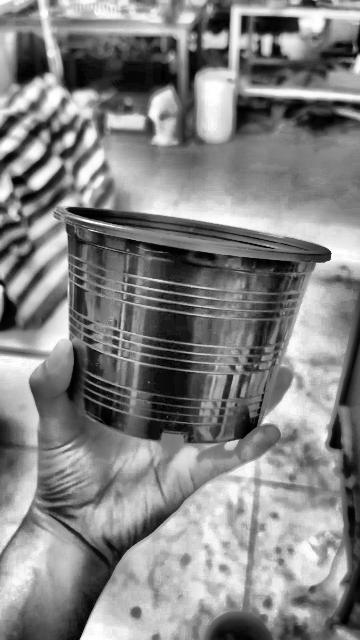pot: (54, 207, 330, 443)
